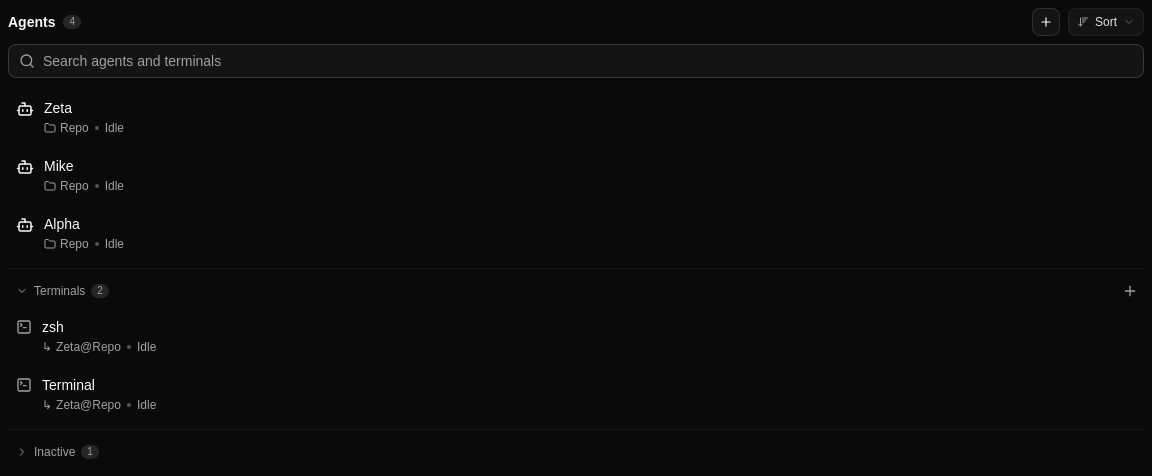
Scenario: FlatAgentList sort control › appends the TUI-only Name (Z to A) row while it is the active mode
The image size is (1152, 476).
Click the button with aria-label "Sort agents".
click(1106, 22)  # box [1068,8,1144,36]
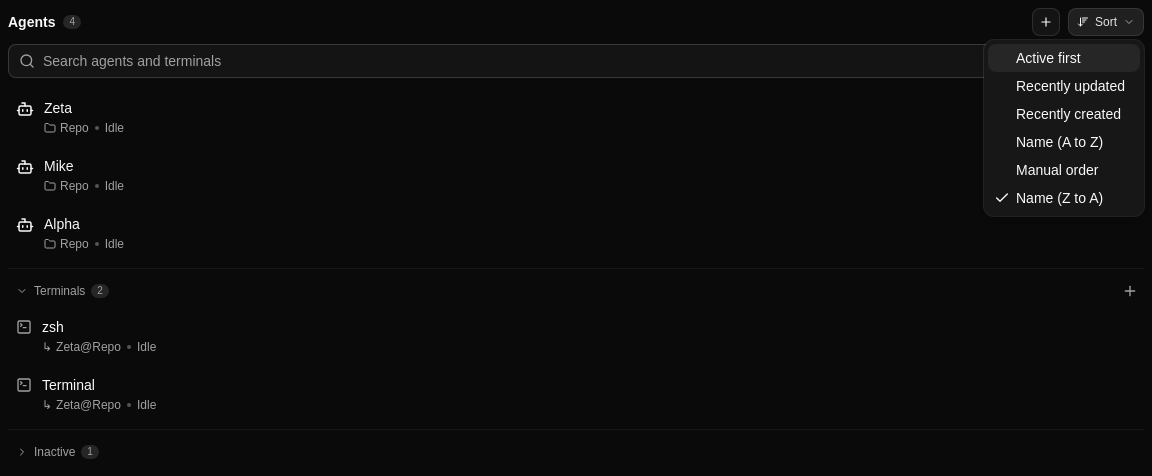
Check: the menu is shown, box [984,40,1144,216]
Check: the menu item "Name (Z to A)" is shown, box [994,190,1103,206]
Check: the icon with class "lucide-check" is shown, box [994,190,1010,206]
